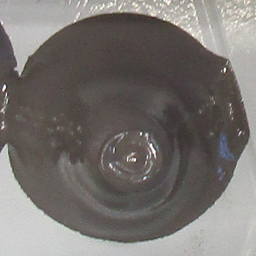perfect: (13, 8, 252, 248)
